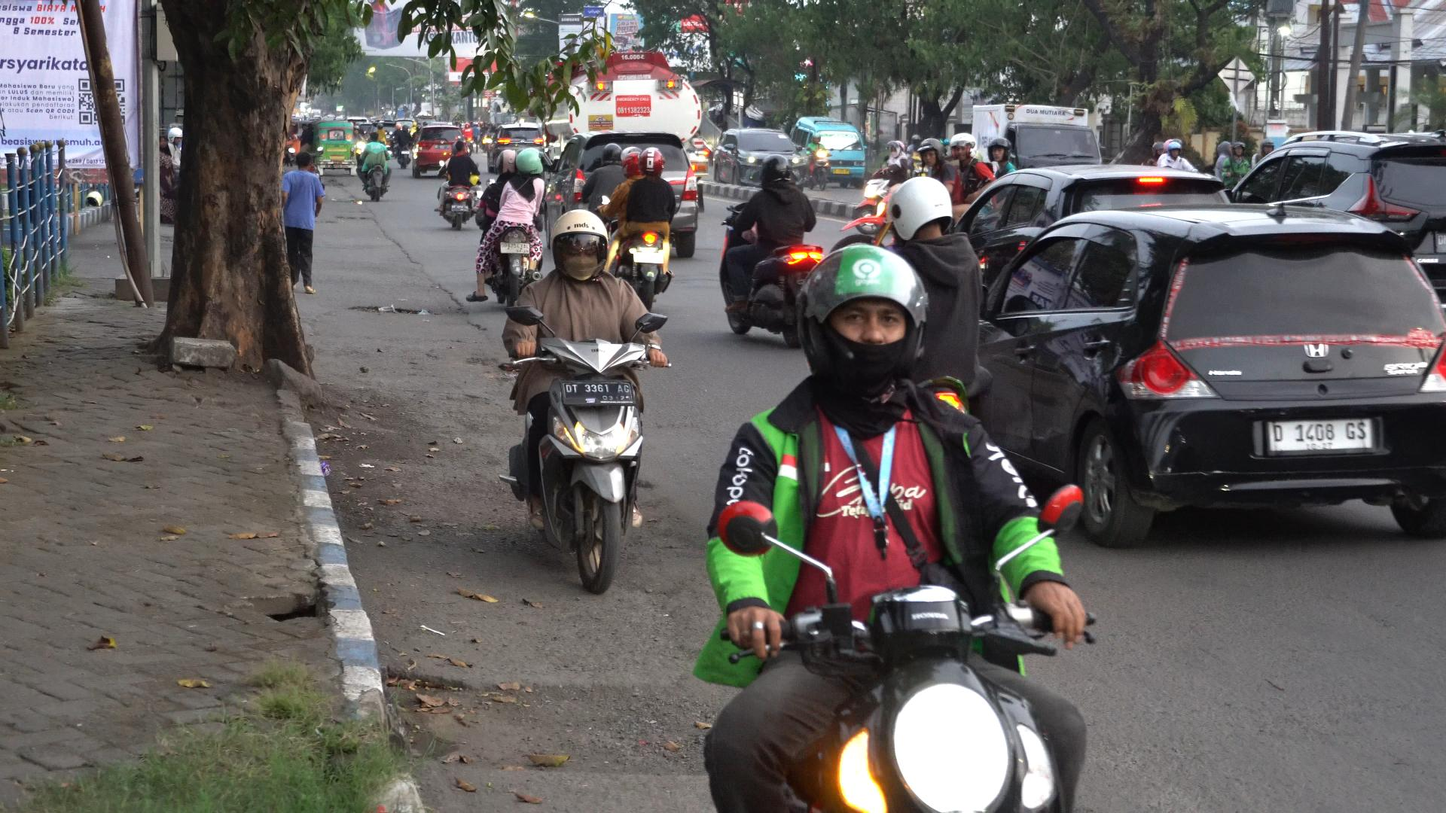number-plate: (562, 376, 637, 403)
